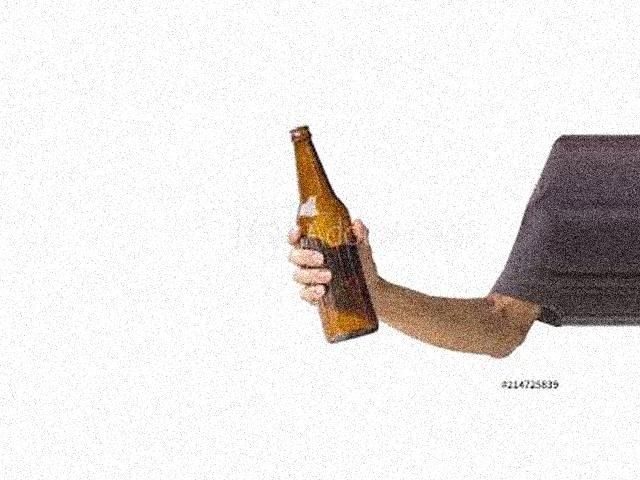beer: (288, 125, 379, 343)
